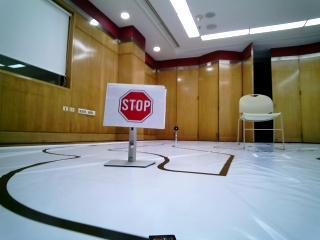stop: (107, 84, 162, 127)
